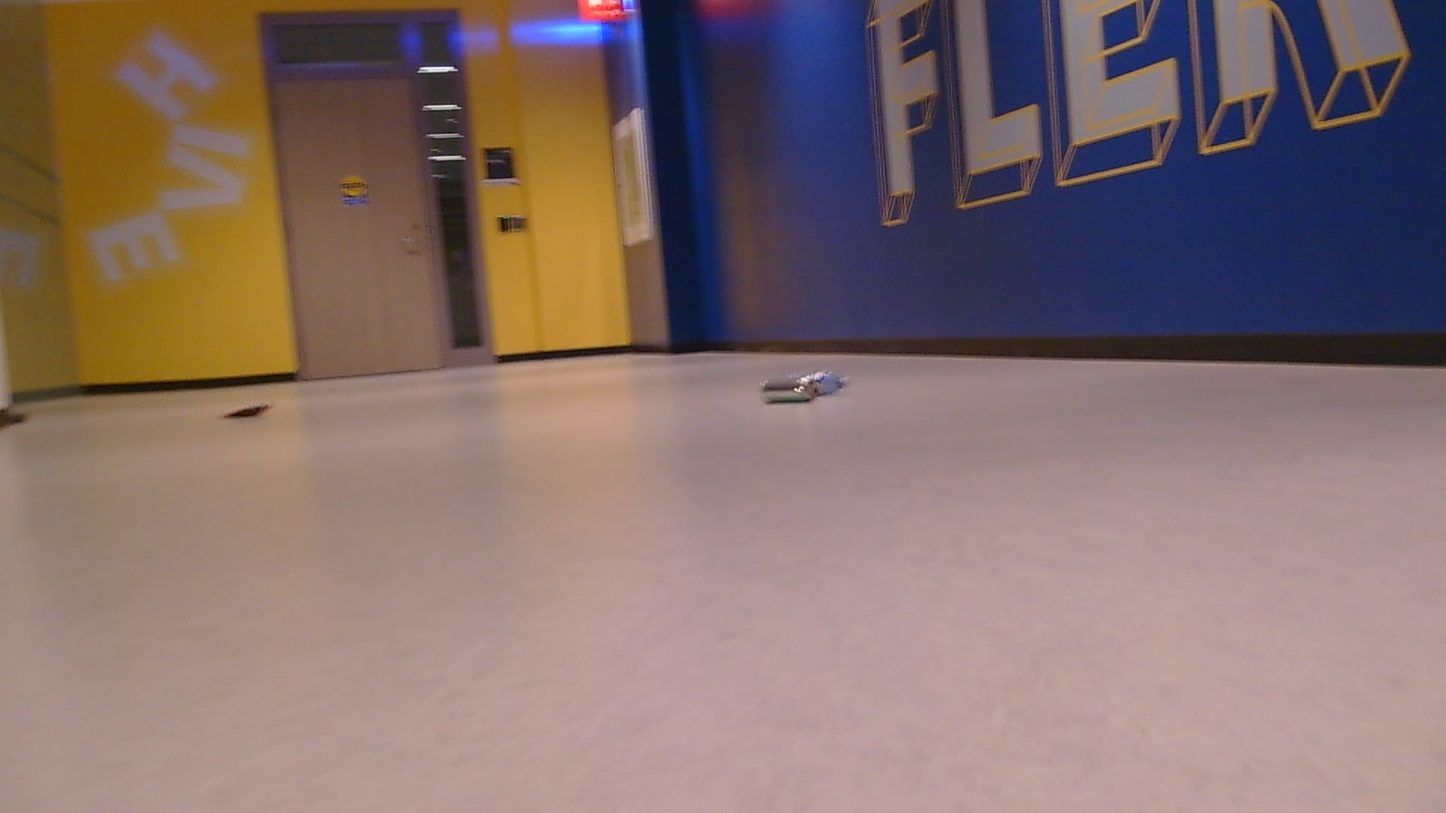can: (755, 364, 850, 404), (218, 391, 285, 424)
